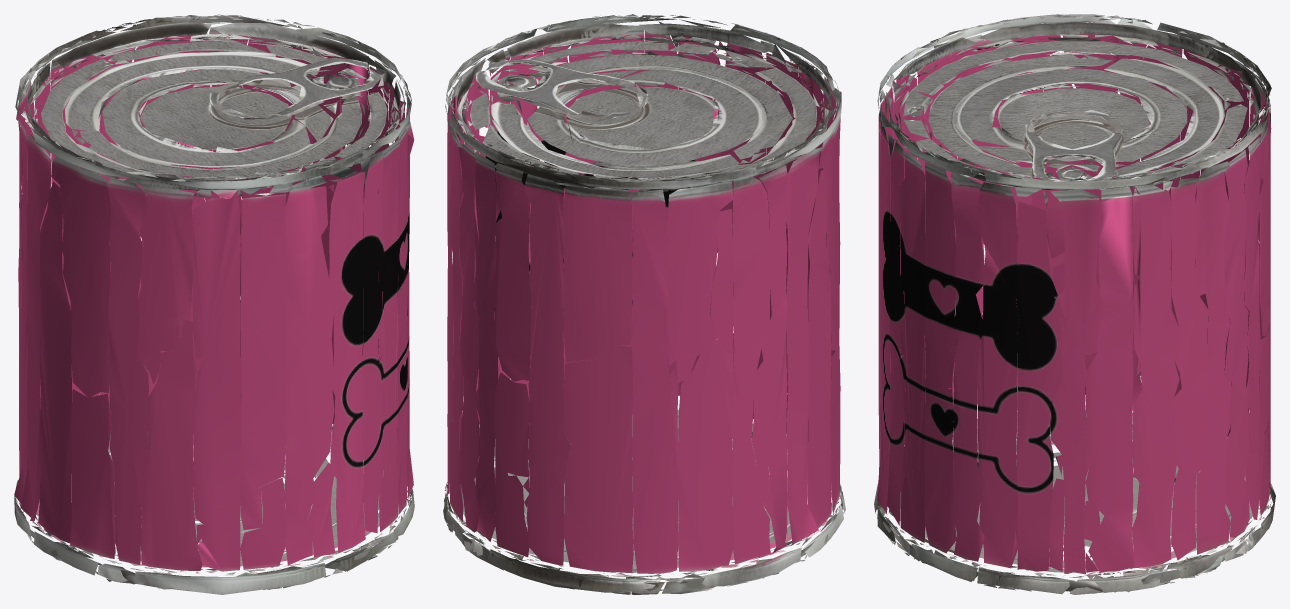
The model's file is P_CanLarge_h14.fbx.
3 views of the same model, side by side, from view 1: azimuth 30°, elevation 25°; view 2: azimuth 150°, elevation 25°; view 3: azimuth 270°, elevation 25° (orthographic).
Visible parts, largest first — view 1: surface_7; view 2: surface_7; view 3: surface_7.
Boxes of the visible parts, bbox=[...] form: surface_7: bbox=[14, 14, 414, 594]; surface_7: bbox=[443, 14, 845, 594]; surface_7: bbox=[874, 14, 1275, 594].
Size of the model in its own units: 0.8855 by 0.9965 by 0.8706.
Materials: 1 (1 with a texture image).
